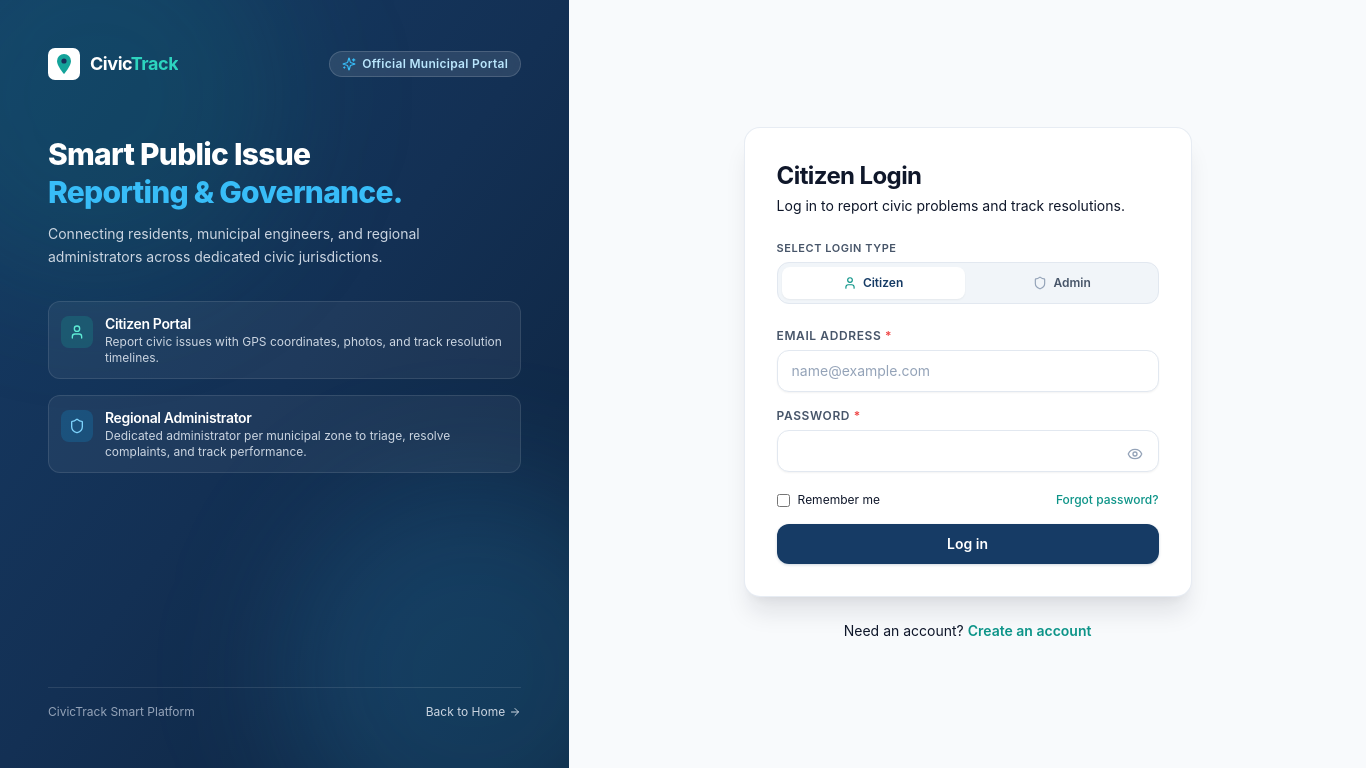
Test: auth flows › shows the server error on failed login
This screenshot has width=1366, height=768.
In the field labelled "Email address *": (968, 371) [777, 350, 1159, 392], type "a@b.co"
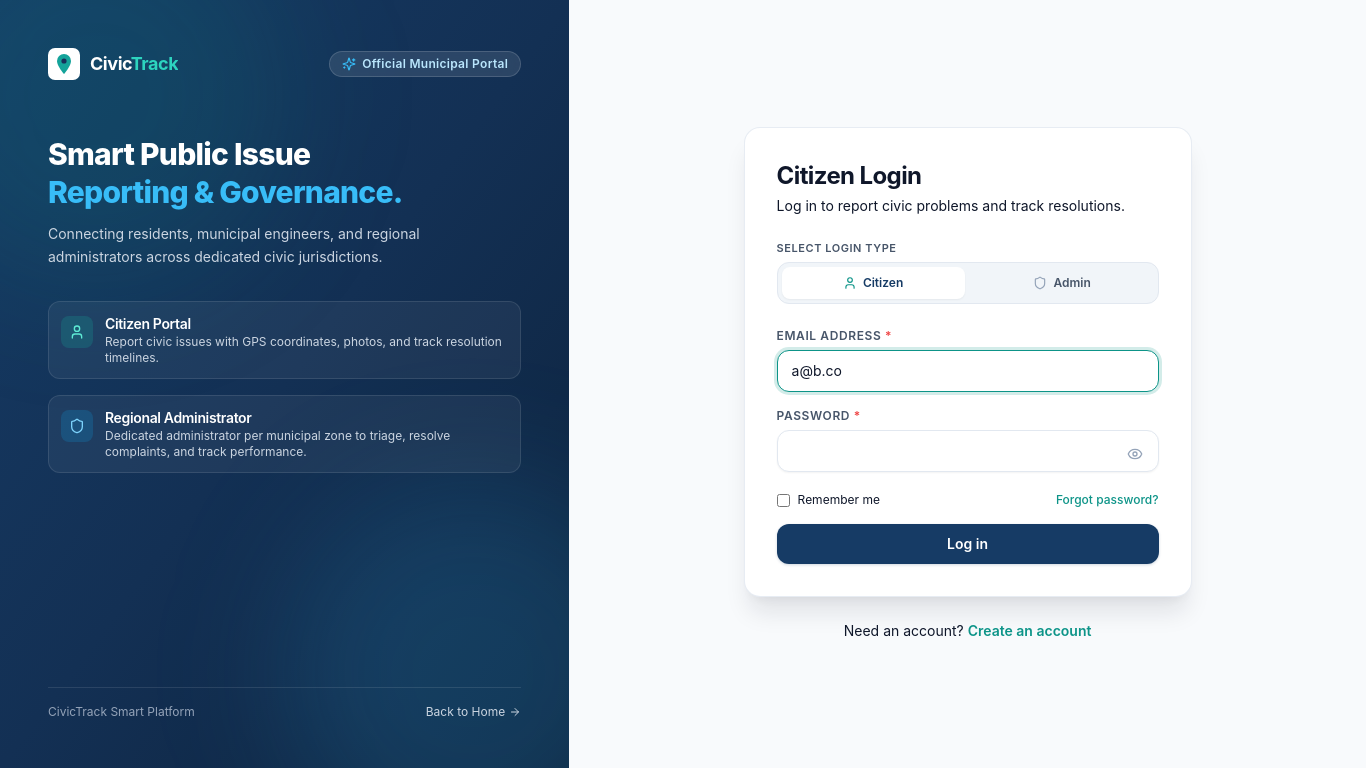
In the password field labelled "Password *": (968, 451) [777, 430, 1159, 472], type "wrongpass1"
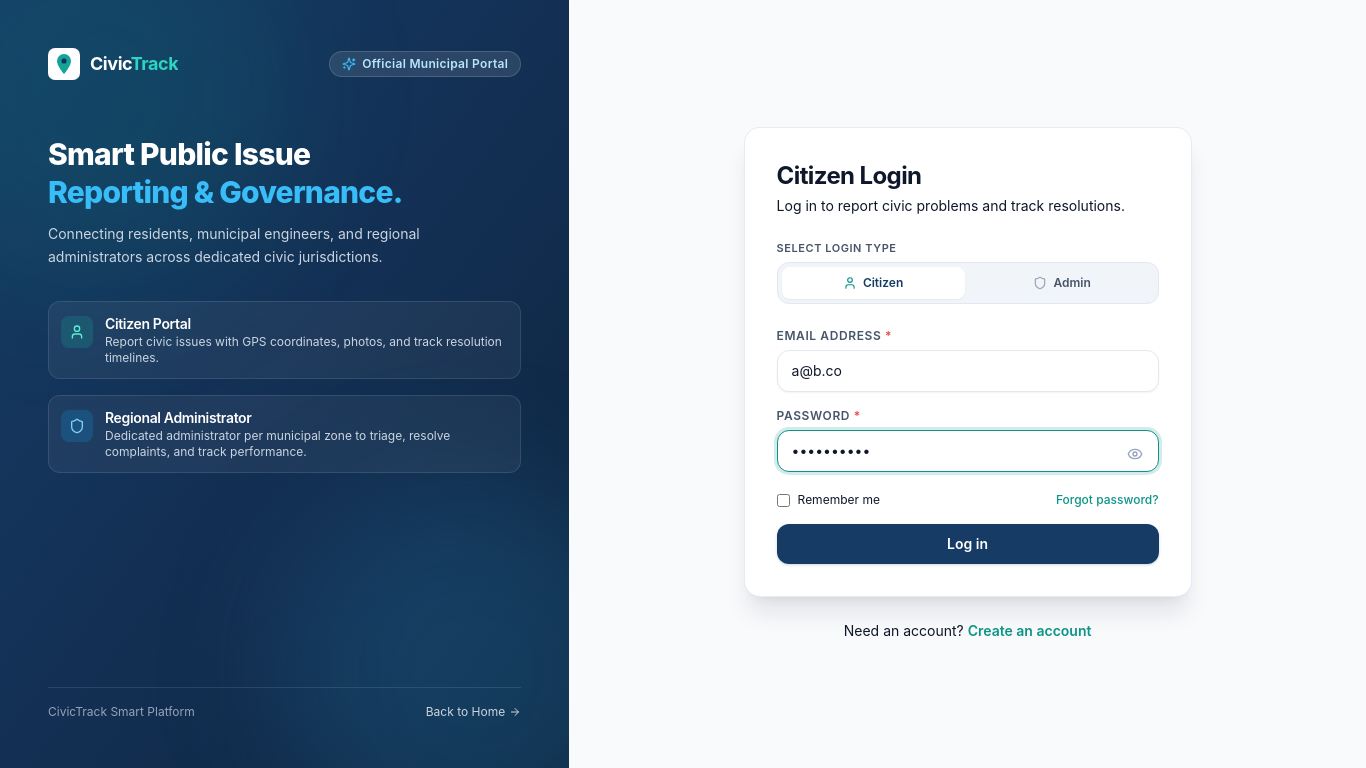
Click the button "Log in": (968, 544) [777, 524, 1159, 564]
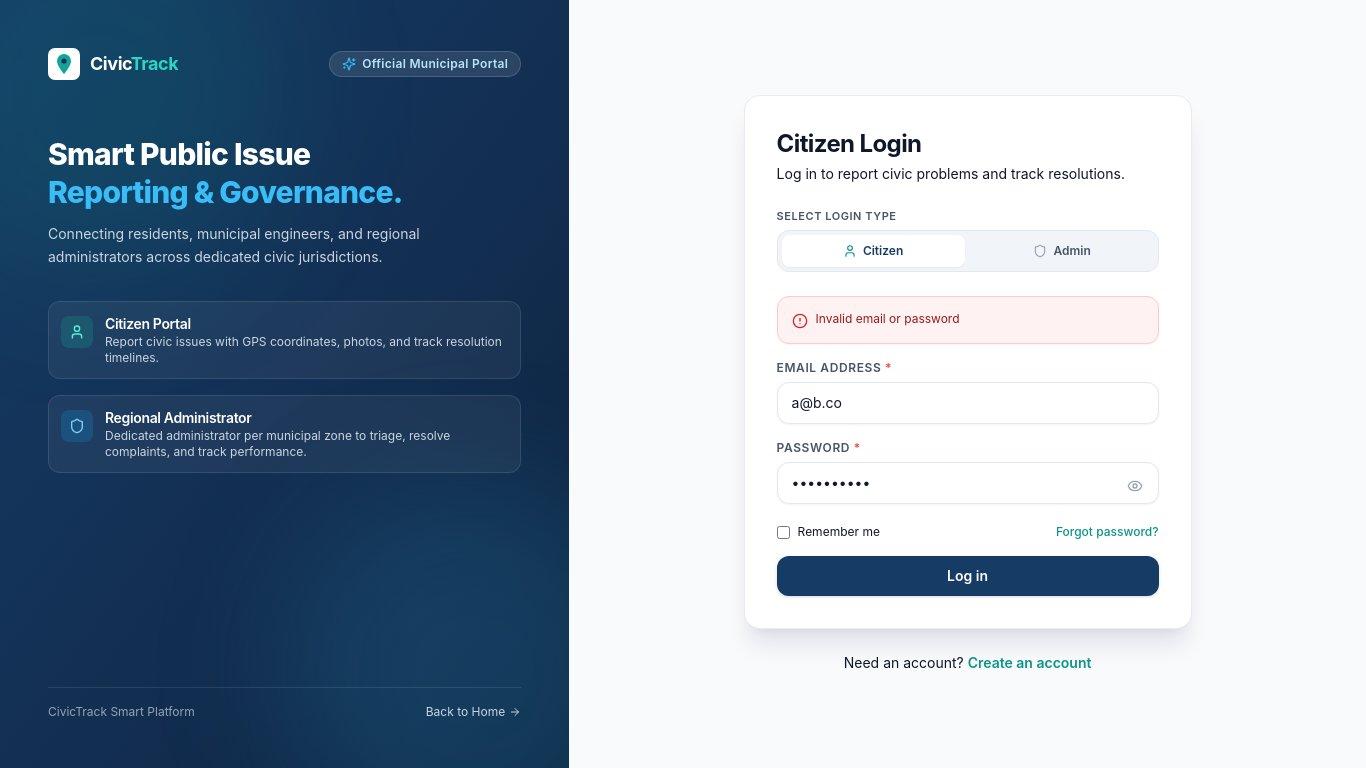
Check: the message reads "Invalid email or password", box [816, 311, 960, 326]
